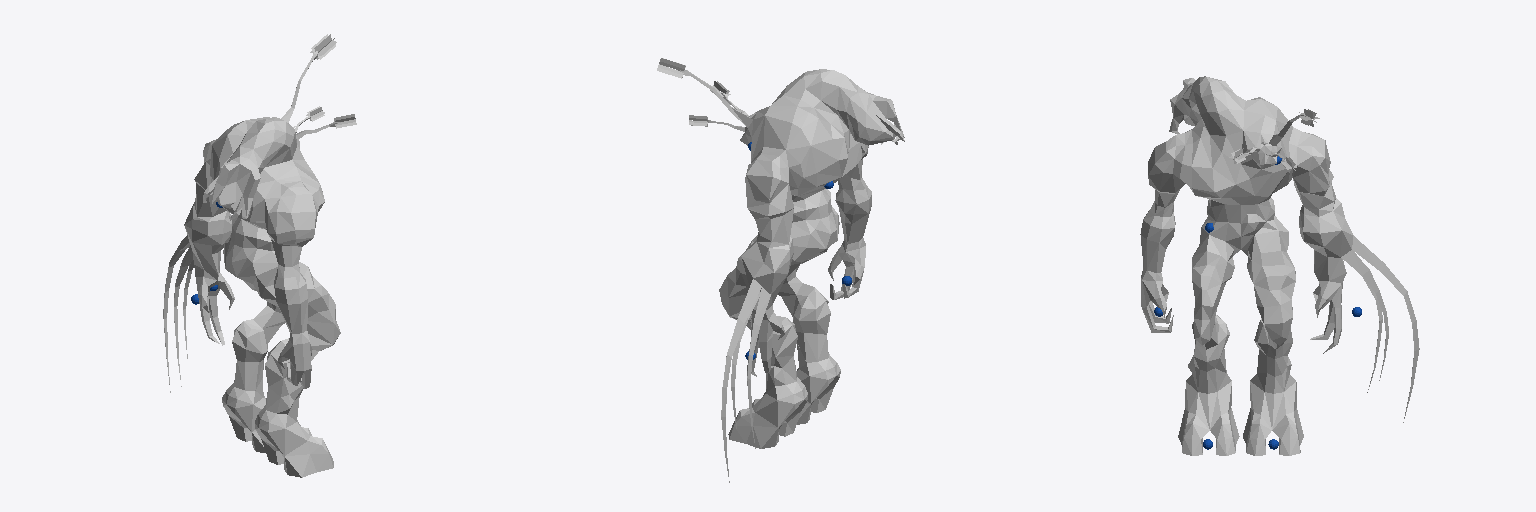
The model's file is Combat.obj.
The picture shows the model from 3 angles: view 1: azimuth 30°, elevation 25°; view 2: azimuth 150°, elevation 25°; view 3: azimuth 270°, elevation 25°; orthographic projection.
Parts seen in each view (by area): view 1: legs, right_arm, left_arm, torso, head; view 2: left_arm, legs, torso, head, right_arm; view 3: legs, left_arm, torso, right_arm, head.
Part boxes in pixels (bbox=[...]): legs: bbox=[222, 262, 340, 477]; right_arm: bbox=[250, 167, 324, 388]; left_arm: bbox=[163, 121, 243, 392]; torso: bbox=[215, 34, 356, 283]; head: bbox=[203, 117, 304, 220]; left_arm: bbox=[721, 107, 841, 482]; legs: bbox=[719, 235, 840, 448]; torso: bbox=[657, 58, 861, 262]; head: bbox=[772, 69, 904, 152]; right_arm: bbox=[828, 143, 871, 299]; legs: bbox=[1178, 221, 1303, 455]; left_arm: bbox=[1260, 97, 1419, 422]; torso: bbox=[1191, 97, 1319, 255]; right_arm: bbox=[1140, 130, 1220, 332]; head: bbox=[1169, 76, 1245, 163].
Bounding box in the file's own units: 6.55 × 12.36 × 8.32.